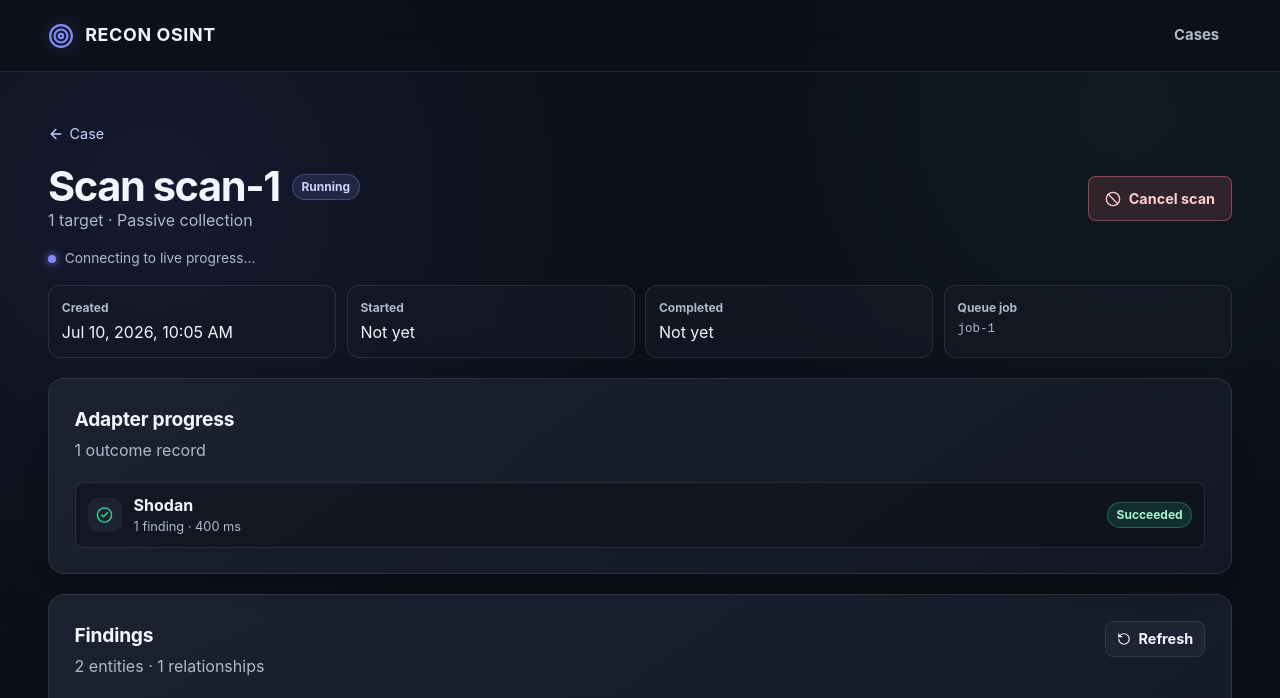
Test: scan detail › cancels a running scan and exposes retry after terminal failure
Click the button "Cancel scan" at (1160, 199), box [1088, 176, 1232, 221]
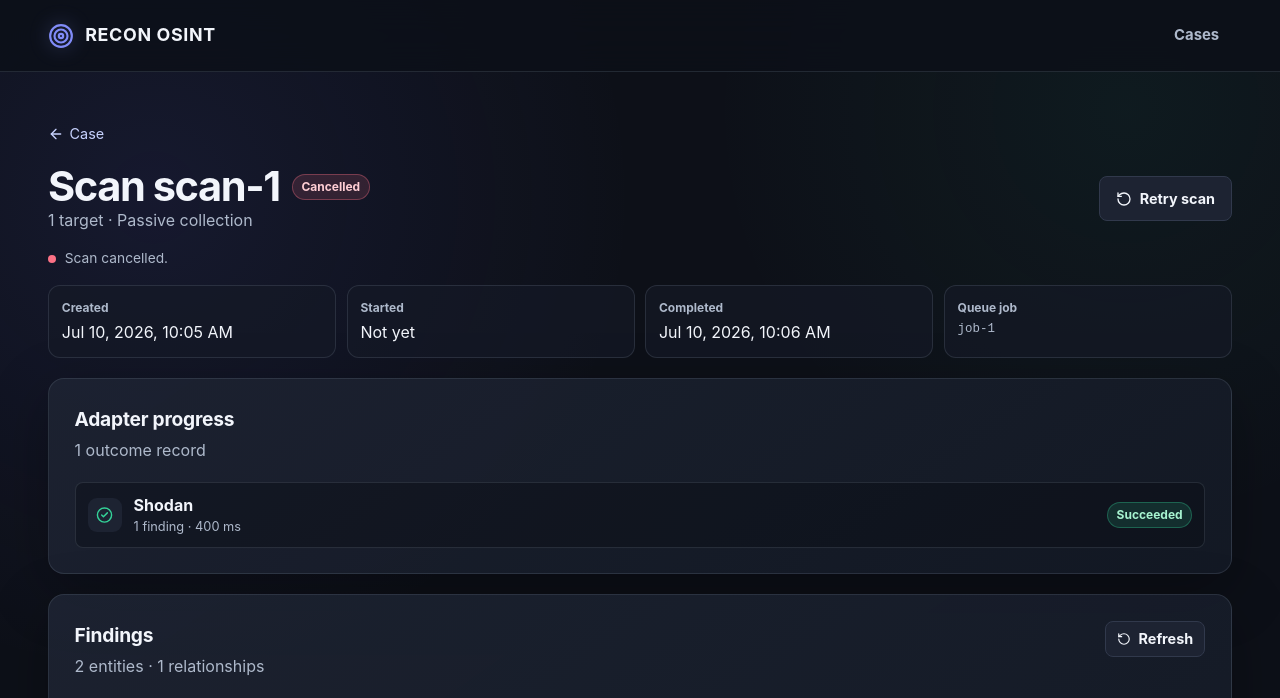
Check: the text "Shodan" is shown, box [134, 495, 193, 515]
Check: the text "Cancelled" is shown, box [292, 174, 370, 200]
Check: the button "Retry scan" is shown, box [1099, 176, 1232, 221]
